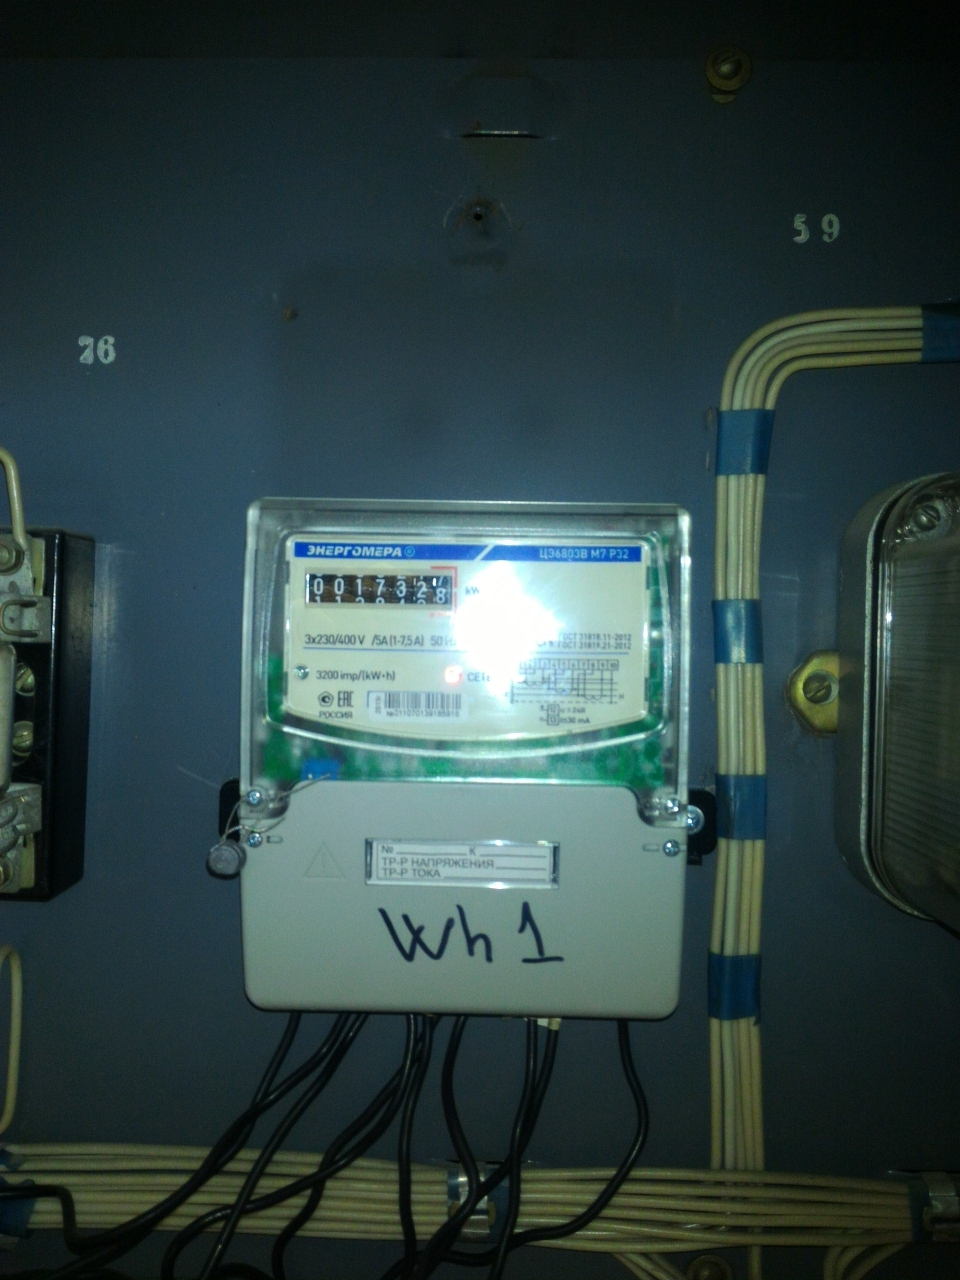0: (311, 577, 325, 595), (333, 577, 345, 596)
1: (354, 577, 364, 597)
2: (415, 580, 428, 600)
3: (395, 579, 407, 598)
7: (373, 578, 386, 596)
8: (434, 585, 447, 604)
screen: (297, 563, 461, 617)
